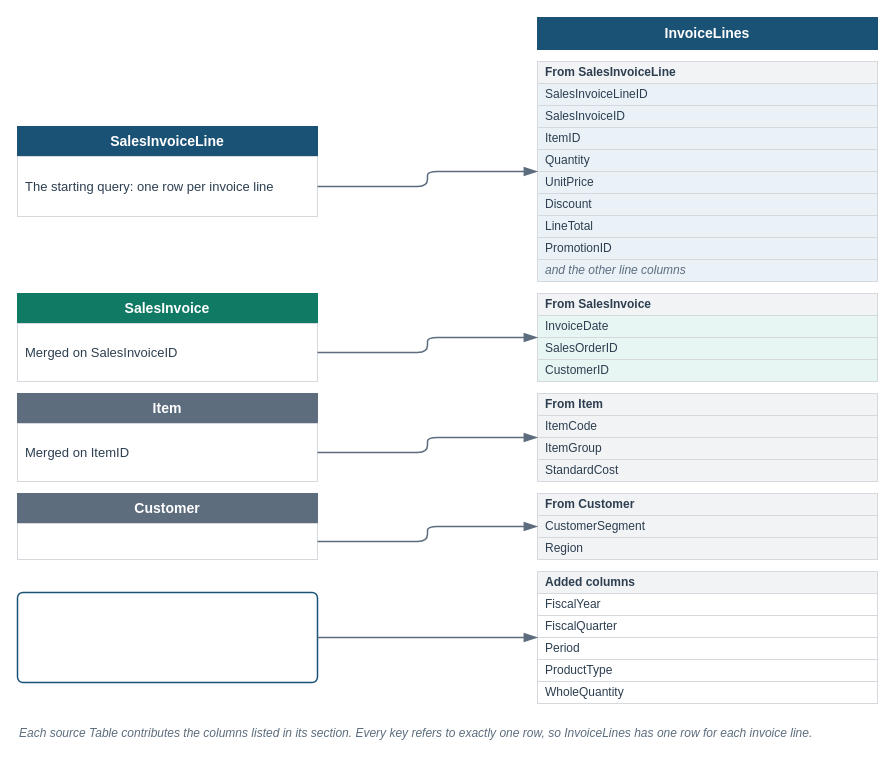
This 896x779 diagram has some shape labels left out. The shapes that lost their labels are listed below. From the top down, each one's centre as x and y in pixels, then its label:
At pixel 167 541: "Merged on CustomerID, from SalesInvoice".
At pixel 167 637: "Power Query Custom Column formulas, such as Text.Middle([ItemCode], 4, 3)".
